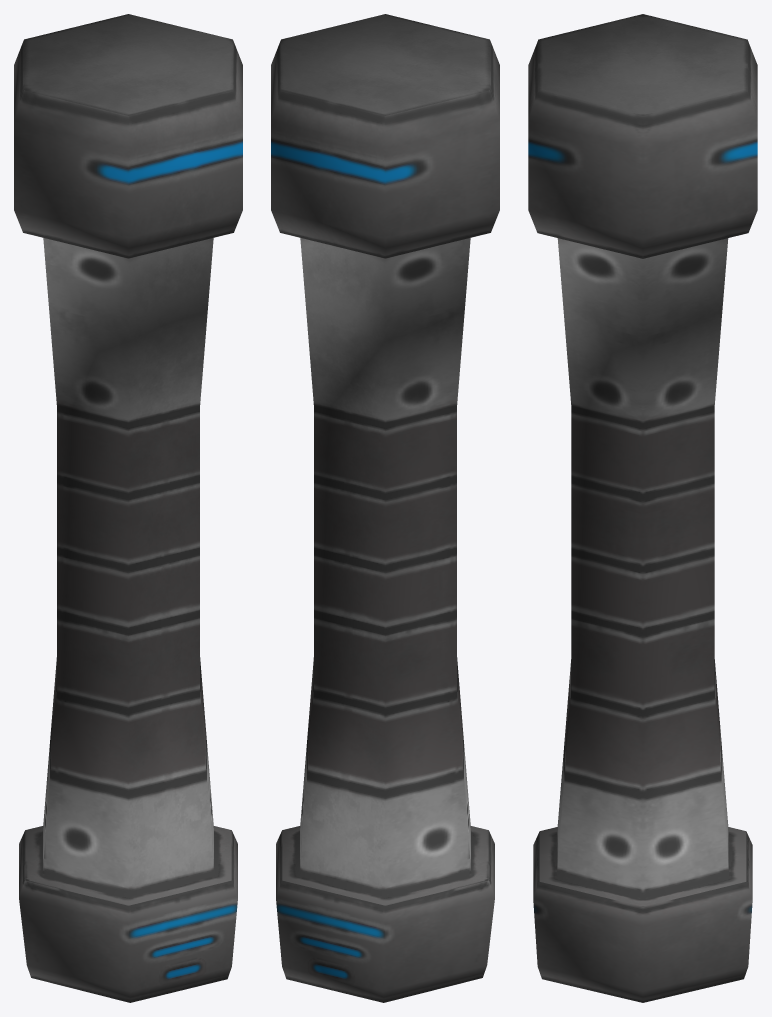
The model's file is EnergySwordS01.fbx.
The picture shows the model from 3 angles, left to right: view 1: azimuth 30°, elevation 25°; view 2: azimuth 150°, elevation 25°; view 3: azimuth 270°, elevation 25°; orthographic projection.
Visible parts, largest first — view 1: LightsaberS01; view 2: LightsaberS01; view 3: LightsaberS01.
Part boxes in pixels (bbox=[...]): LightsaberS01: bbox=[14, 14, 242, 1002]; LightsaberS01: bbox=[271, 14, 499, 1002]; LightsaberS01: bbox=[528, 14, 757, 1002].
Bounding box in the file's own units: 2.32 × 8.6 × 2.
